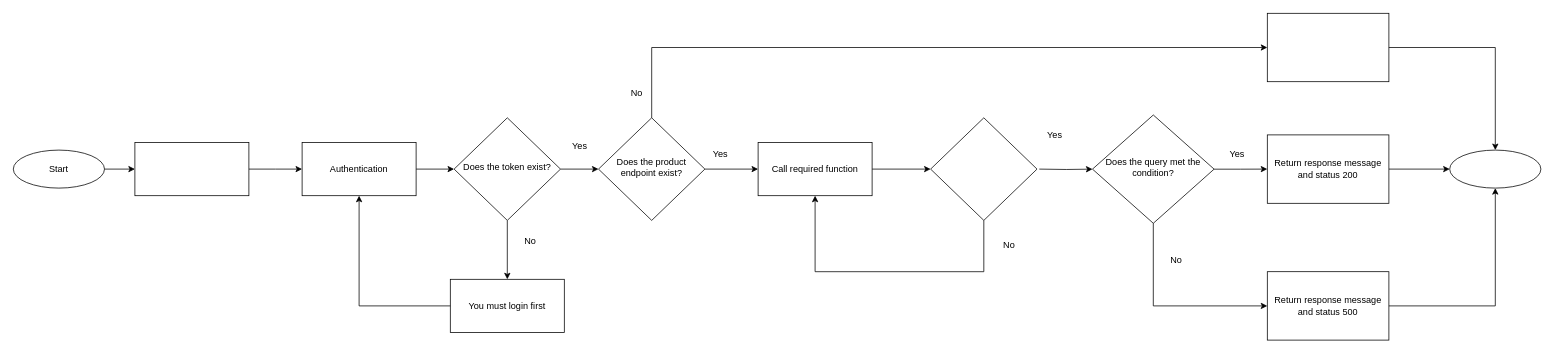
This 1554x353 diagram has some shape labels left out. The shapes that lost their labels are listed below. From the top down, each one's box as (x1, y1, x2, y2) in pixels, then its label:
(1267, 13, 1389, 82): Return response message and status 404
(134, 142, 249, 196): Receive Request
(930, 117, 1037, 220): Do you have the permission?
(1449, 149, 1541, 188): End
